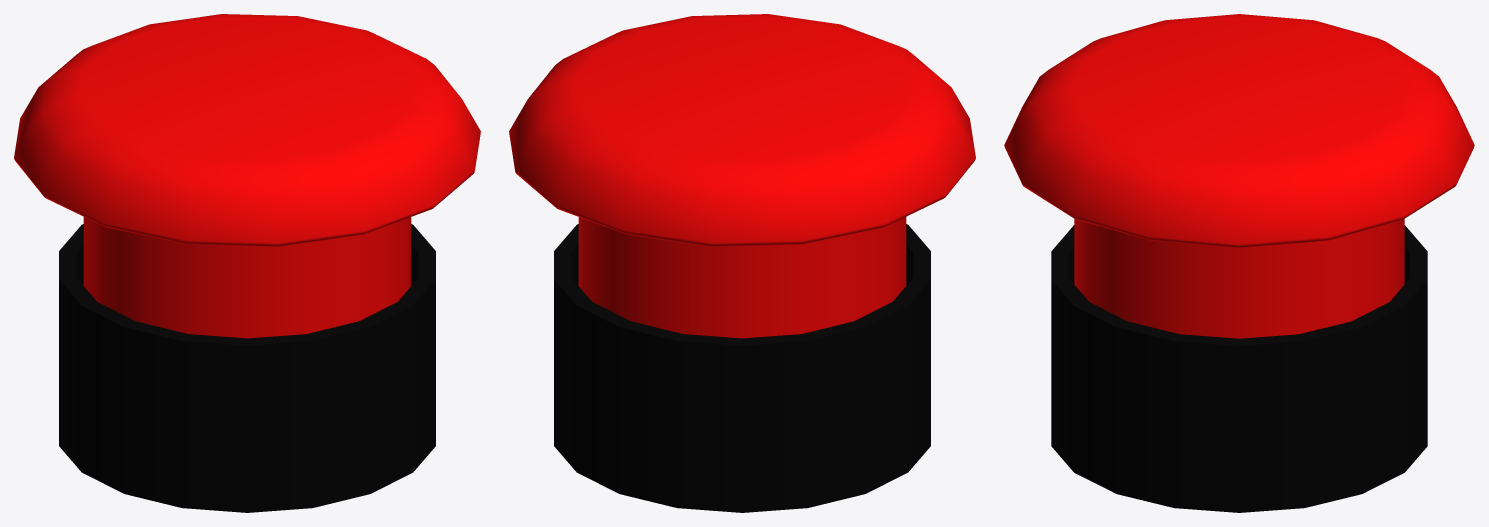
The model's file is Button_01.fbx.
3 views of the same model, side by side, from view 1: azimuth 30°, elevation 25°; view 2: azimuth 150°, elevation 25°; view 3: azimuth 270°, elevation 25° (orthographic).
Parts seen in each view (by area): view 1: button_00, button_base_00; view 2: button_00, button_base_00; view 3: button_00, button_base_00.
Part boxes in pixels (box(x1,y1,x2,y2)): button_00: box(14, 14, 480, 338); button_base_00: box(59, 224, 435, 512); button_00: box(509, 14, 975, 338); button_base_00: box(554, 224, 930, 512); button_00: box(1004, 14, 1474, 338); button_base_00: box(1051, 225, 1427, 512).
Size of the model in its own units: 36.02 by 29.03 by 36.02.
